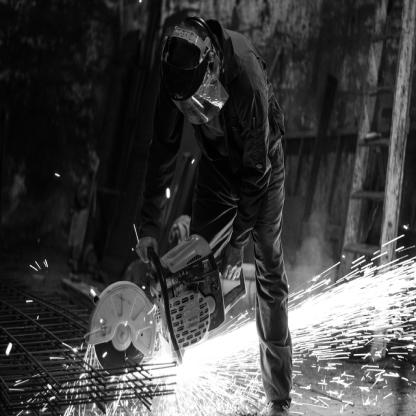Helmet: (161, 11, 222, 117)
